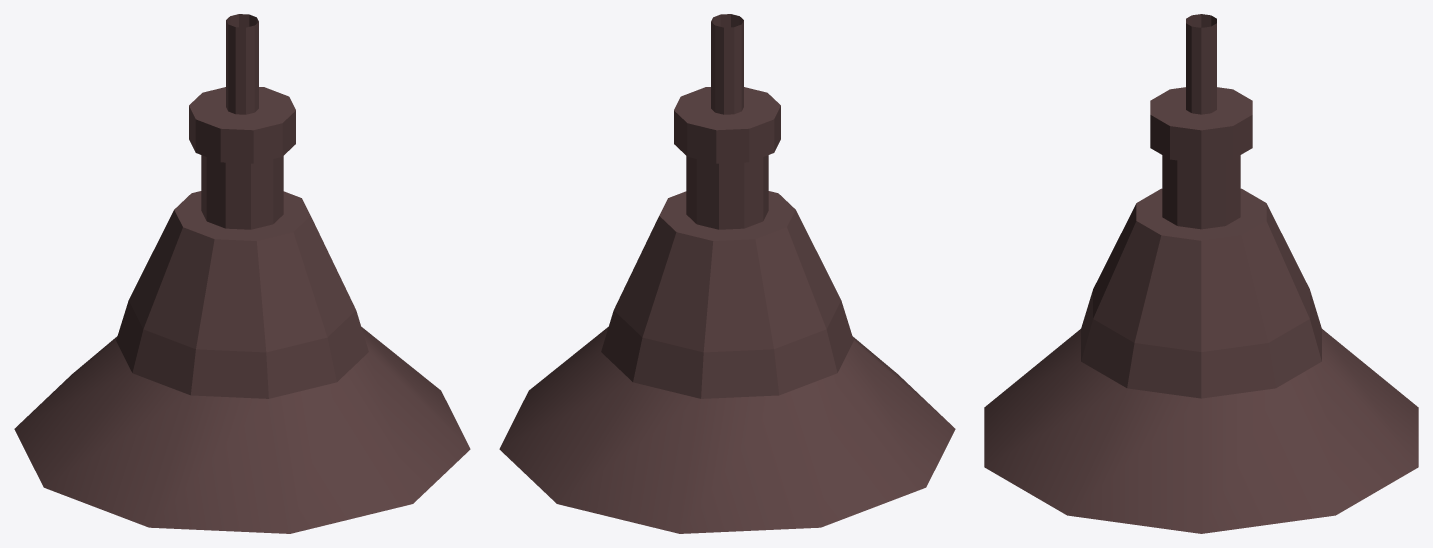
File: Z1LightRoofLight.FBX
The picture shows the model from 3 angles, left to right: view 1: azimuth 30°, elevation 25°; view 2: azimuth 150°, elevation 25°; view 3: azimuth 270°, elevation 25°; orthographic projection.
Parts seen in each view (by area): view 1: CLEM_Zona1_ConeCeilingLight005; view 2: CLEM_Zona1_ConeCeilingLight005; view 3: CLEM_Zona1_ConeCeilingLight005.
Part boxes in pixels (x1,y1,x2,y2): CLEM_Zona1_ConeCeilingLight005: (14, 14, 470, 533); CLEM_Zona1_ConeCeilingLight005: (499, 14, 955, 533); CLEM_Zona1_ConeCeilingLight005: (984, 14, 1418, 533).
Bounding box in the file's own units: 0.3312 × 0.372 × 0.315.
